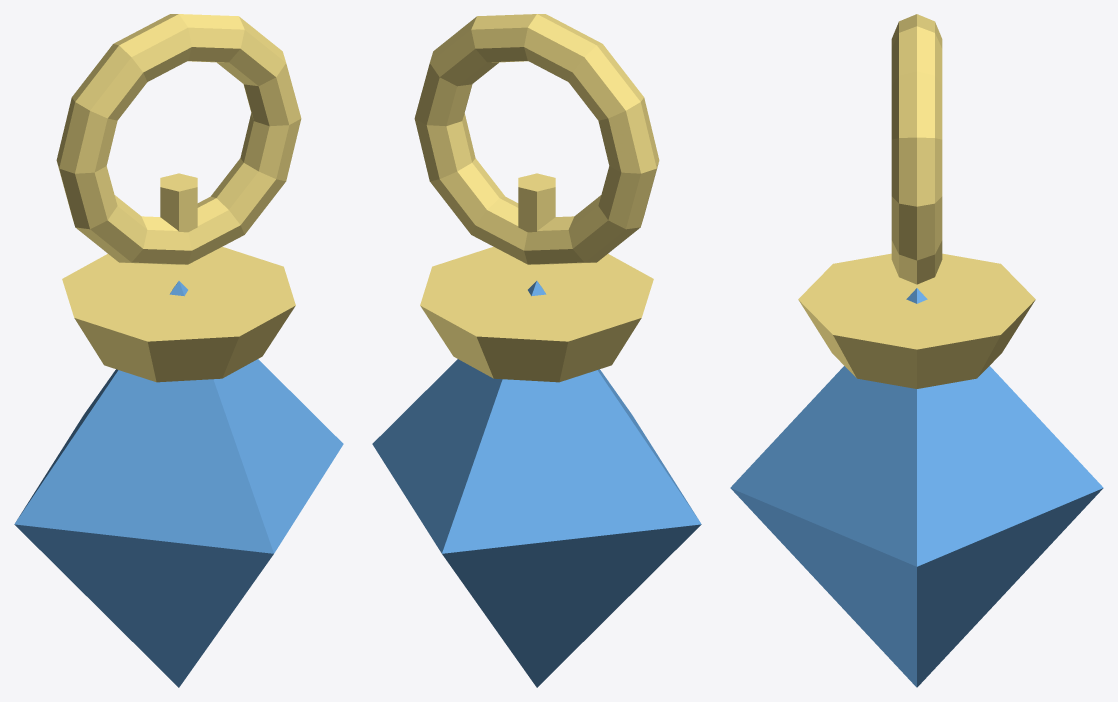
File: trinket.glb
The picture shows the model from 3 angles, left to right: view 1: azimuth 30°, elevation 25°; view 2: azimuth 150°, elevation 25°; view 3: azimuth 270°, elevation 25°; orthographic projection.
Size of the model in its own units: 0.88 by 1.72 by 0.88.
